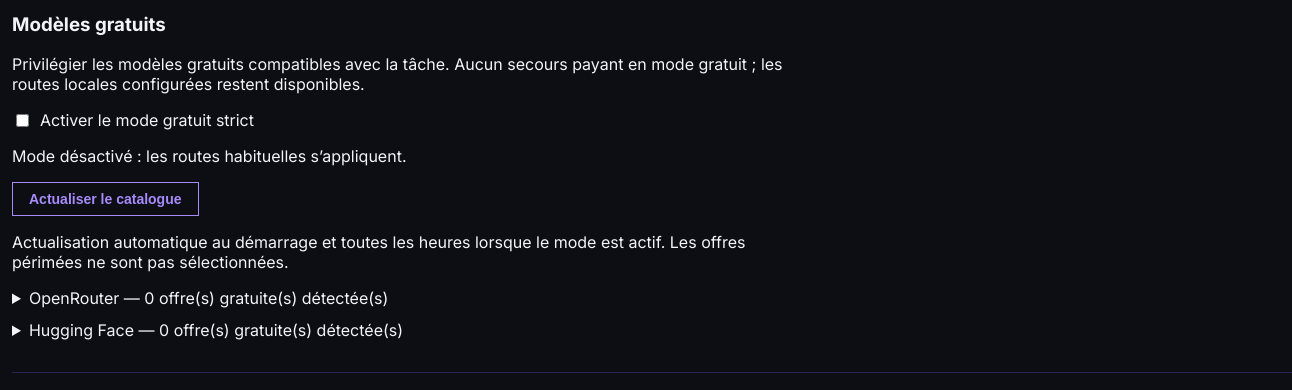
Test: strict free-model controls › enables the strict policy without granting paid fallback permission
The image size is (1292, 390).
Click the checkbox.
click(22, 120)  # box [16,114,29,127]
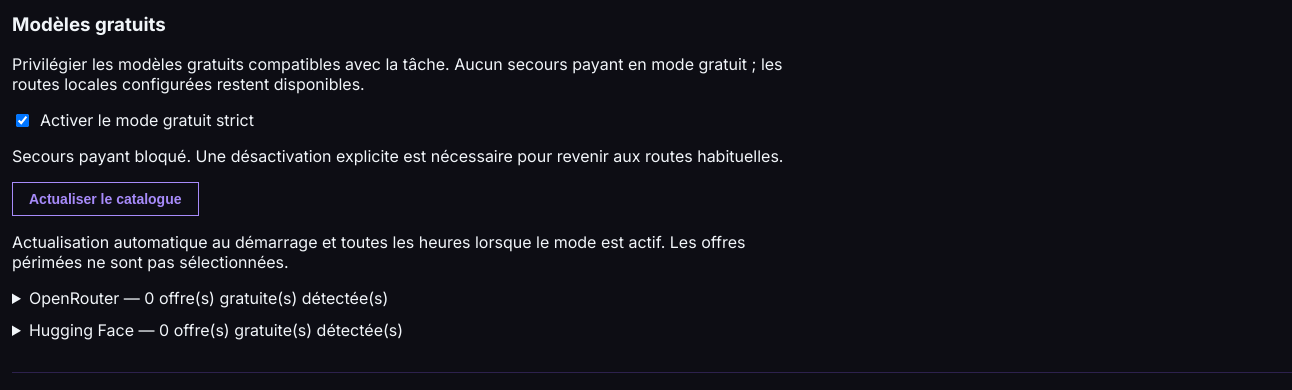
Now the text "Secours payant bloqué" is shown, box [12,146,784,166]
